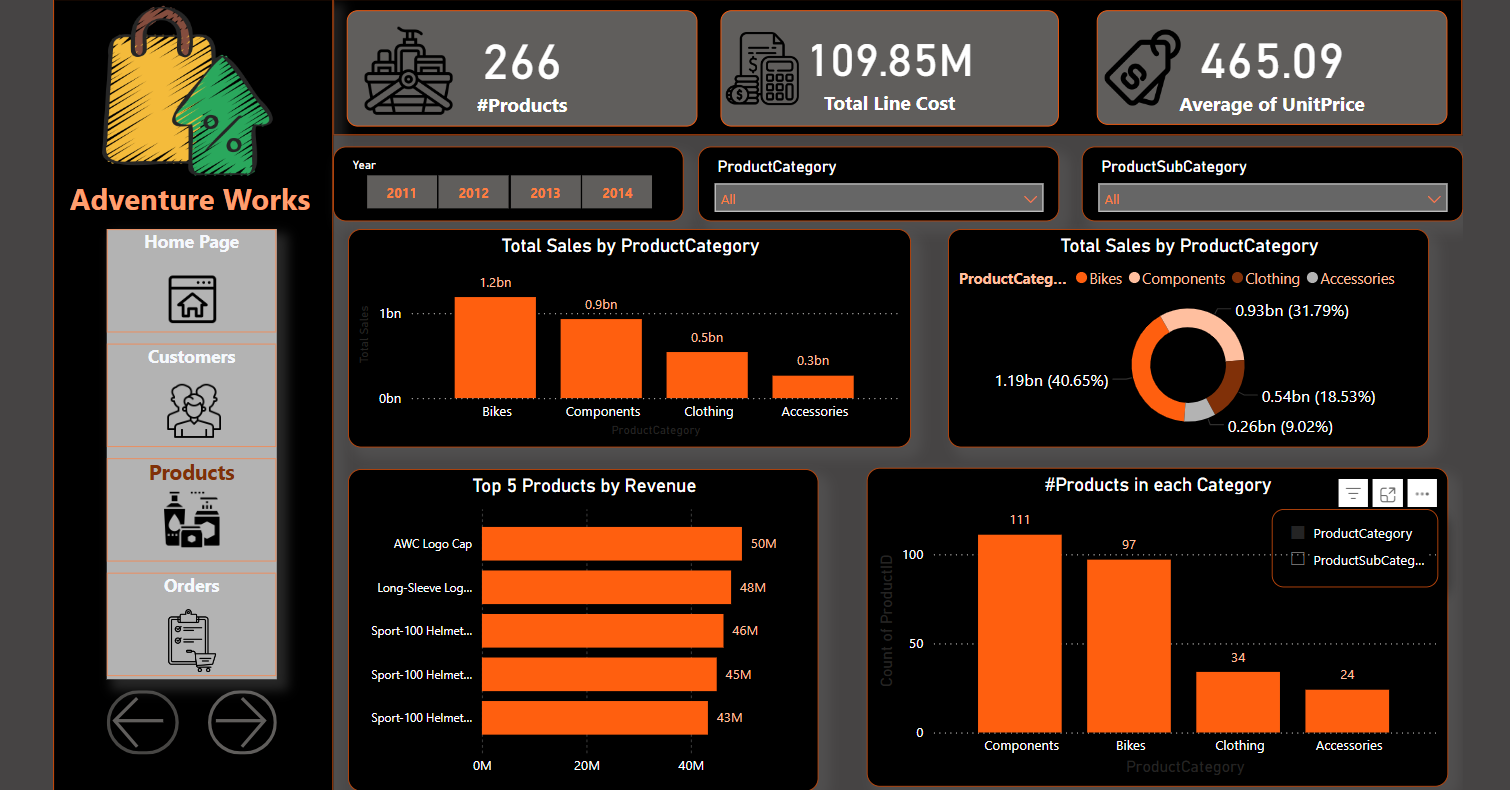

The dashboard page shown, as its layout file describes it:
{"tool":"powerbi","page":{"name":"Products","canvas":[1280,720],"ordinal":2},"visuals":[{"type":"shape","box":[254.6,0,1025.4,123.8],"z":0},{"type":"pageNavigator","box":[48.7,208.7,154.4,409],"z":0,"group":"g1"},{"type":"shape","box":[0,0,254.6,719.3],"z":1000},{"type":"image","box":[53.6,343.3,149.5,60.1],"z":1000,"group":"g1"},{"type":"card","fields":{"Values":["Avg(Fact_Orders.UnitPrice)"]},"box":[947.5,9.7,318.6,104.3],"z":2000},{"type":"image","box":[51.9,246.1,148.7,53.3],"z":2000,"group":"g1"},{"type":"columnChart","title":"#Products in each Category","fields":{"Category":["Dim_Products.ProductCategory"],"Y":["CountNonNull(Dim_Products.ProductID)"]},"box":[738.7,425.8,527.6,289.6],"z":3000},{"type":"image","box":[48.7,442.6,154.4,60.1],"z":3000,"group":"g1"},{"type":"slicer","title":"Year","fields":{"Values":["Dim_Products.ProductSubCategory"]},"box":[933.6,133.6,346.4,68.2],"z":4000},{"type":"image","box":[48.7,548.5,154.4,69.3],"z":4000,"group":"g1"},{"type":"card","fields":{"Values":["Dax_Meas.Total Line Cost"]},"box":[606.6,9.7,307.5,105.7],"z":5000},{"type":"slicer","title":"Year","fields":{"Values":["Dim_Date.Year"]},"box":[254.6,133.6,318.6,68.2],"z":6000},{"type":"card","fields":{"Values":["Dax_Meas.#Products"]},"box":[267.1,9.7,318.6,105.7],"z":7000},{"type":"slicer","title":"Year","fields":{"Values":["Dim_Products.ProductCategory"]},"box":[585.7,133.6,328.3,68.2],"z":8000},{"type":"donutChart","fields":{"Category":["Dim_Products.ProductCategory"],"Y":["Dax_Meas.Total Sales"]},"box":[812.3,208.6,436.8,198.8],"z":9000},{"type":"textbox","box":[9.8,158.3,234.4,79.8],"z":10000},{"type":"clusteredColumnChart","fields":{"Y":["Dax_Meas.Total Sales"],"Category":["Dim_Products.ProductCategory"]},"box":[267.5,208.8,511.2,198.8],"z":11000},{"type":"image","box":[0,0,244.2,166.9],"z":12000},{"type":"actionButton","box":[140.5,627.5,62.6,58.4],"z":13000},{"type":"actionButton","box":[48.7,627.5,65.4,58.4],"z":14000},{"type":"group","id":"g1","title":"Group 4","box":[48.7,208.7,154.4,409],"z":15000},{"type":"clusteredBarChart","title":"Top 5 Products by Revenue","fields":{"Category":["Dim_Products.Product"],"Y":["Dax_Meas.Total Sales"]},"box":[267.5,426.2,427.5,292.5],"z":16000},{"type":"image","box":[947.5,10,83.8,103.8],"z":17000},{"type":"image","box":[606.2,15,76.2,96.2],"z":18000},{"type":"image","box":[277.5,15,90,101.2],"z":19000},{"type":"slicer","fields":{"Values":["Parameter 2.Parameter"]},"box":[1106.8,462.6,150.9,71.2],"z":20000}]}

Visuals, with their boxes on the page's 1280x720 design canvas (x1, y1, x2, y2). These are canvas units, not pixel positions in the 1510x790 screenshot, which may show the page scaled, cropped or inside an application window:
shape: <box>255,0,1280,124</box>
pageNavigator: <box>49,209,203,618</box>
shape: <box>0,0,255,719</box>
image: <box>54,343,203,403</box>
card - Avg(Fact_Orders.UnitPrice): <box>948,10,1266,114</box>
image: <box>52,246,201,299</box>
"#Products in each Category" columnChart: <box>739,426,1266,715</box>
image: <box>49,443,203,503</box>
"Year" slicer: <box>934,134,1280,202</box>
image: <box>49,548,203,618</box>
card - Dax_Meas.Total Line Cost: <box>607,10,914,115</box>
"Year" slicer: <box>255,134,573,202</box>
card - Dax_Meas.#Products: <box>267,10,586,115</box>
"Year" slicer: <box>586,134,914,202</box>
donutChart - Dim_Products.ProductCategory x Dax_Meas.Total Sales: <box>812,209,1249,407</box>
textbox: <box>10,158,244,238</box>
clusteredColumnChart - Dax_Meas.Total Sales x Dim_Products.ProductCategory: <box>268,209,779,408</box>
image: <box>0,0,244,167</box>
actionButton: <box>140,628,203,686</box>
actionButton: <box>49,628,114,686</box>
"Group 4" group: <box>49,209,203,618</box>
"Top 5 Products by Revenue" clusteredBarChart: <box>268,426,695,719</box>
image: <box>948,10,1031,114</box>
image: <box>606,15,682,111</box>
image: <box>278,15,368,116</box>
slicer - Parameter 2.Parameter: <box>1107,463,1258,534</box>
